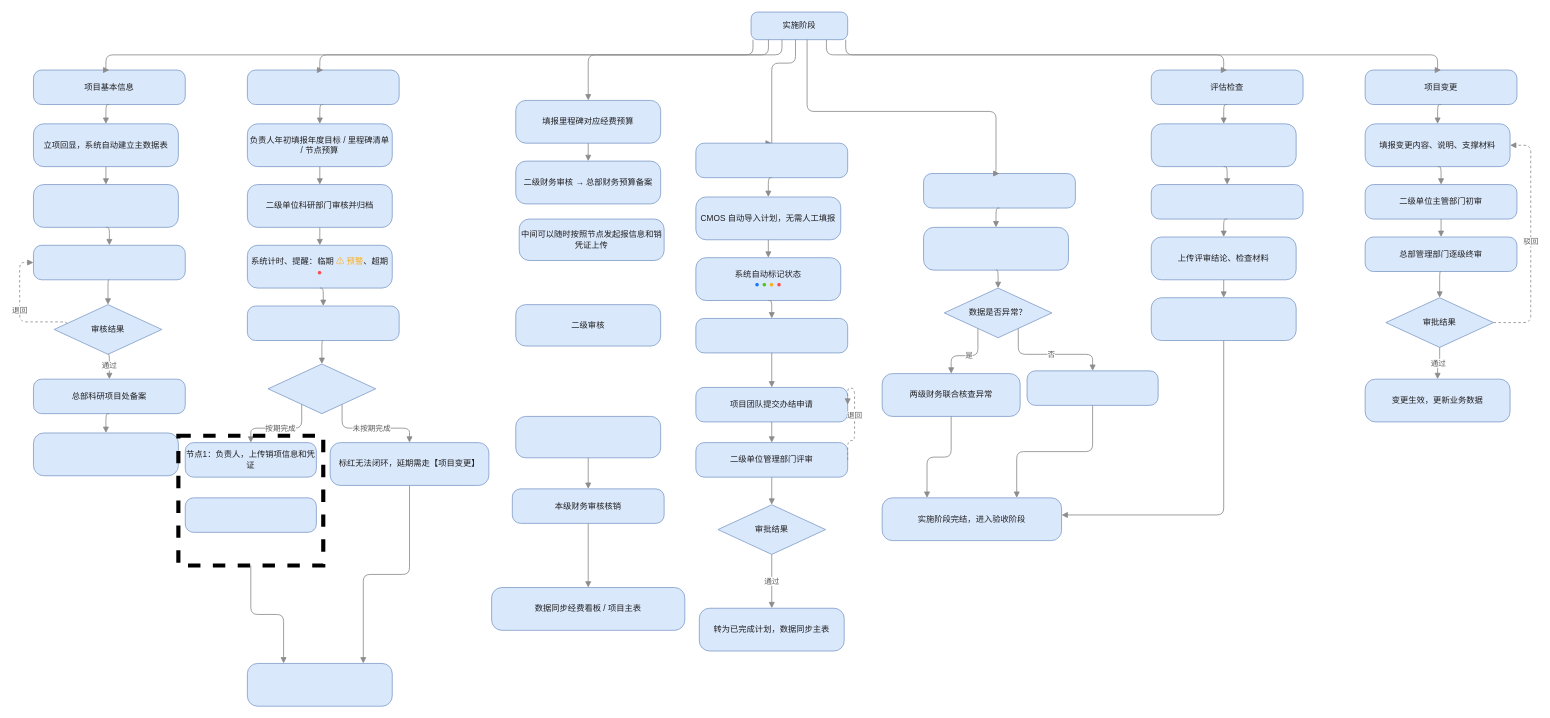
This 1550x718 diagram has some shape labels left out. Here are the shapes that lost their labels. From the top down, the box of each, then its label:
(247, 69, 399, 105): 里程碑管理
(695, 142, 848, 178): 计划管理
(1151, 123, 1296, 167): 按项目进度发起评估申请
(33, 184, 178, 227): 项目团队补录缺失字段，完善年度目标
(923, 173, 1075, 208): 项目经费
(1151, 184, 1303, 219): 线下完成评估 / 督导
(33, 245, 185, 280): 提交二级单位内部审核
(923, 227, 1068, 270): 系统同步各单位经费数据
(247, 305, 399, 341): 里程碑节点到期
(695, 318, 848, 353): 待办计划待执行
(1151, 297, 1296, 341): 线上归档，进度同步主表
(267, 363, 376, 414): 节点完成情况
(1026, 370, 1158, 405): 正常核销，同步主表
(33, 432, 178, 476): 总部审核，数据同步项目主表
(515, 416, 661, 458): 里程碑闭环后，按节点上传经费凭证
(185, 497, 316, 532): 二级单位内部审核
(247, 663, 392, 706): 里程碑闭环验收合格 → 允许经费核销
